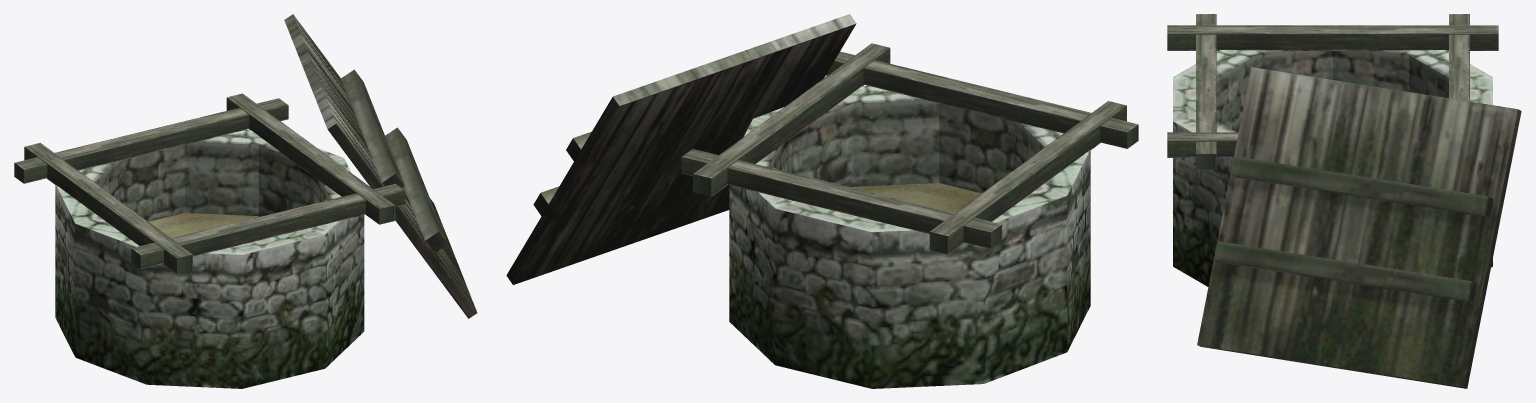
3 views of the same model, side by side, from view 1: azimuth 30°, elevation 25°; view 2: azimuth 150°, elevation 25°; view 3: azimuth 270°, elevation 25° (orthographic). The views are drawn at different scales.
Parts seen in each view (by area): view 1: ob-10-01; view 2: ob-10-01; view 3: ob-10-01.
Boxes of the visible parts, bbox=[...] form: ob-10-01: bbox=[14, 14, 477, 388]; ob-10-01: bbox=[506, 14, 1138, 388]; ob-10-01: bbox=[1167, 14, 1521, 388].
Bounding box in the file's own units: 3.56 × 1.68 × 2.4.
